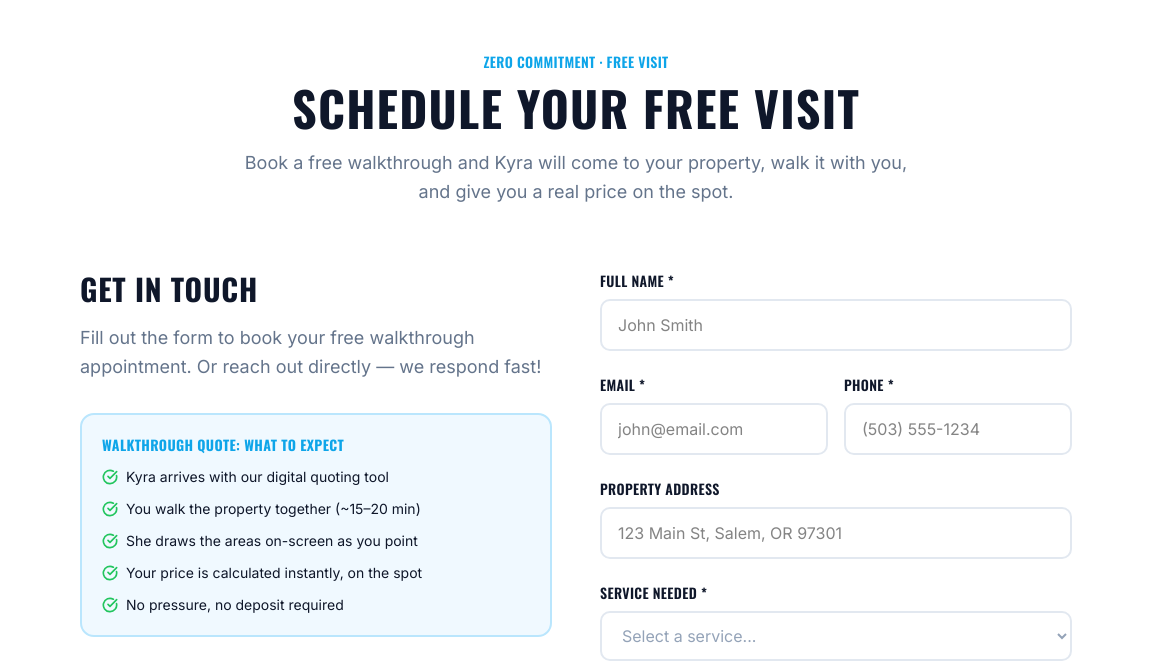
Test: ContactForm — phone validation (M3) › rejects a phone number that is too short
In the field labelled "Full Name *": (836, 324) left=600, top=298, right=1072, bottom=350, type "Test User"
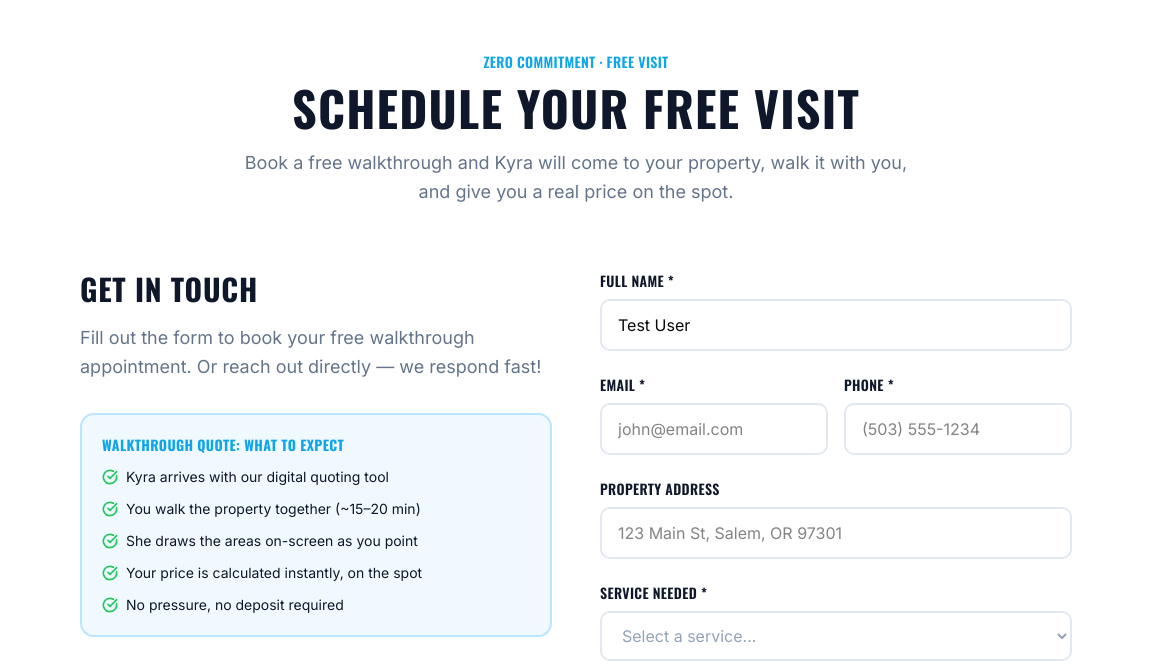
In the field labelled "Email *": (714, 428) left=600, top=402, right=828, bottom=454, type "test@example.com"
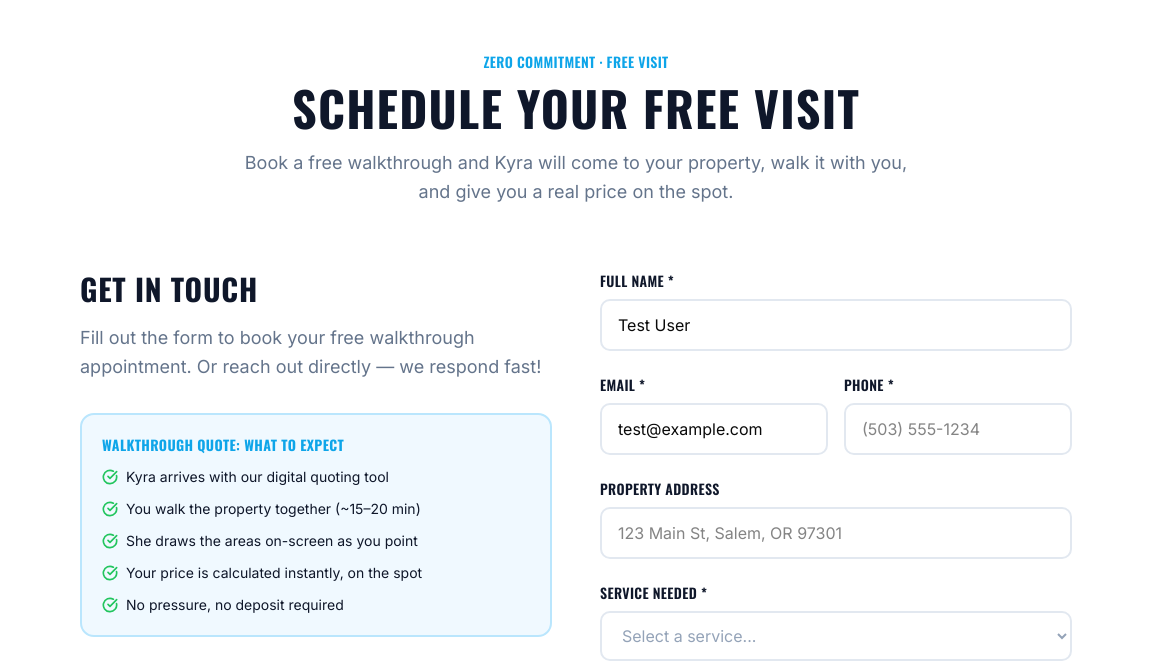
In the field labelled "Phone *": (958, 428) left=844, top=402, right=1072, bottom=454, type "123"
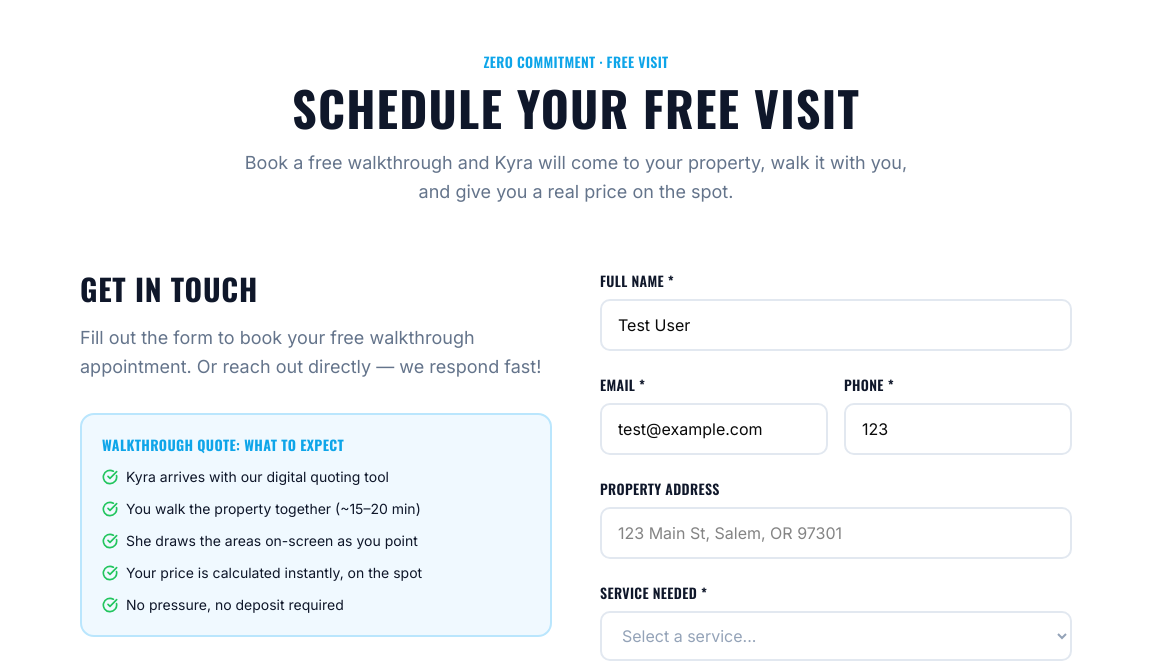
Select "Soft Washing (Siding)" in the dropdown labelled "Service Needed *": (836, 636) left=600, top=610, right=1072, bottom=660
(page scrolled)
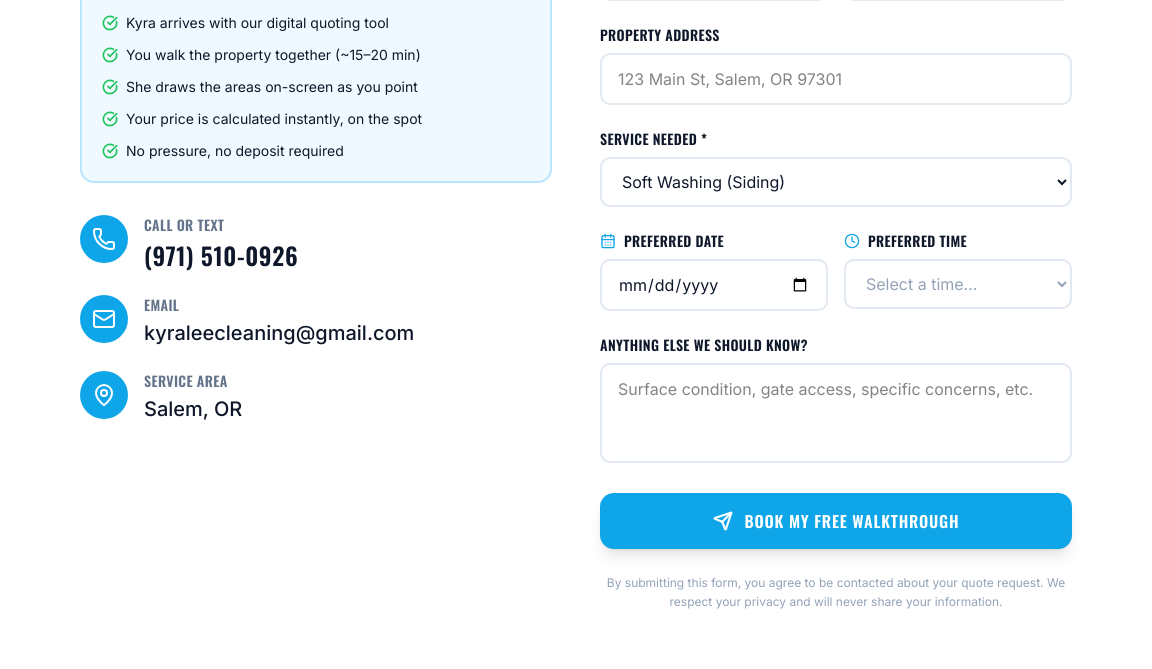
Click the button "Book My Free Walkthrough": (836, 520) left=600, top=492, right=1072, bottom=548
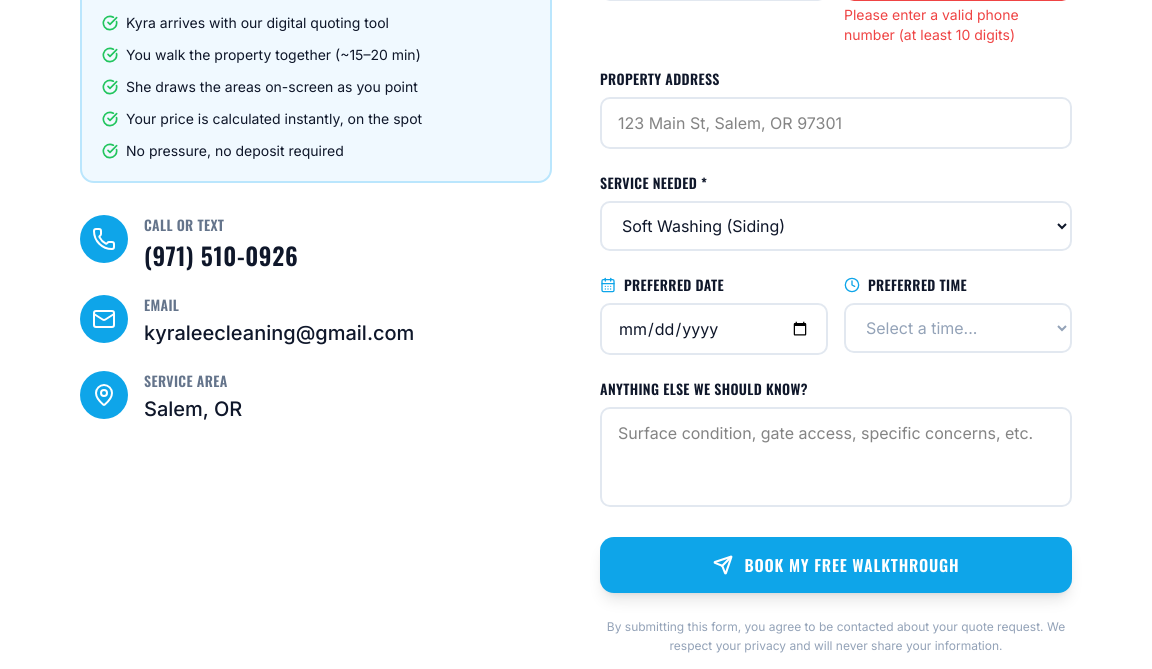
Expected: the text "Please enter a valid phone number (at least 10 digits)" is shown, left=844, top=6, right=1019, bottom=42
